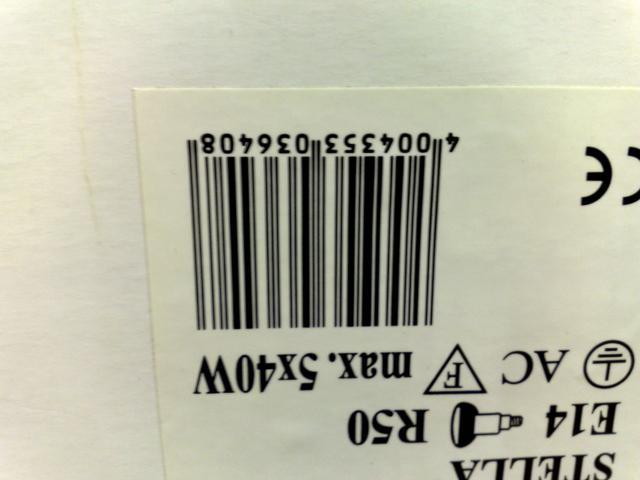Barkod: (184, 153, 442, 329)
